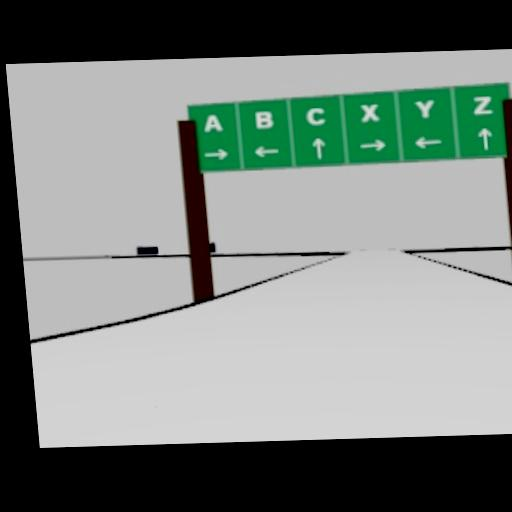A: (202, 113, 223, 131)
B: (253, 110, 273, 129)
C: (304, 107, 328, 125)
Left: (411, 135, 442, 149), (252, 145, 281, 158)
Right: (356, 138, 385, 151), (203, 148, 229, 160)
Straight: (476, 127, 493, 149), (311, 137, 326, 159)
X: (359, 105, 381, 122)
Y: (414, 99, 436, 120)
Z: (472, 95, 493, 113)
